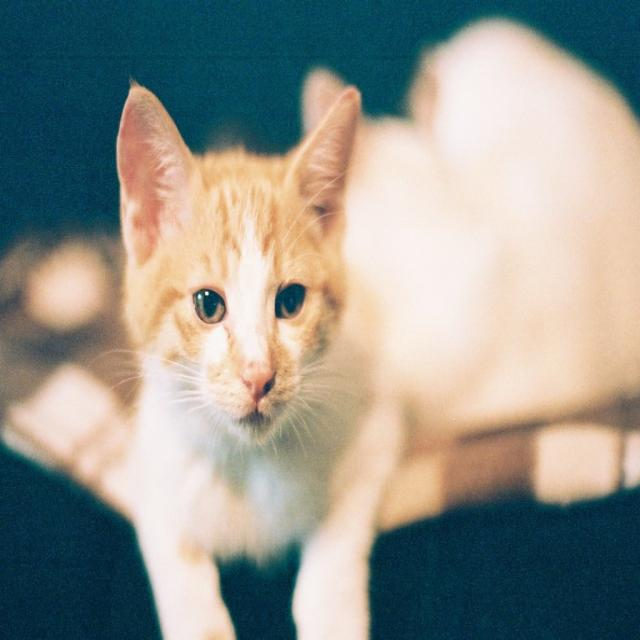Cat: (114, 11, 639, 638)
